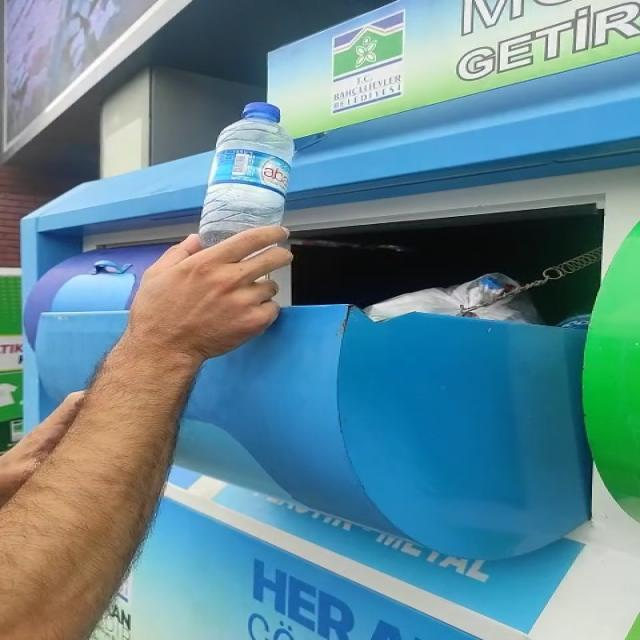Plastic: (211, 103, 295, 177), (200, 182, 286, 243)
